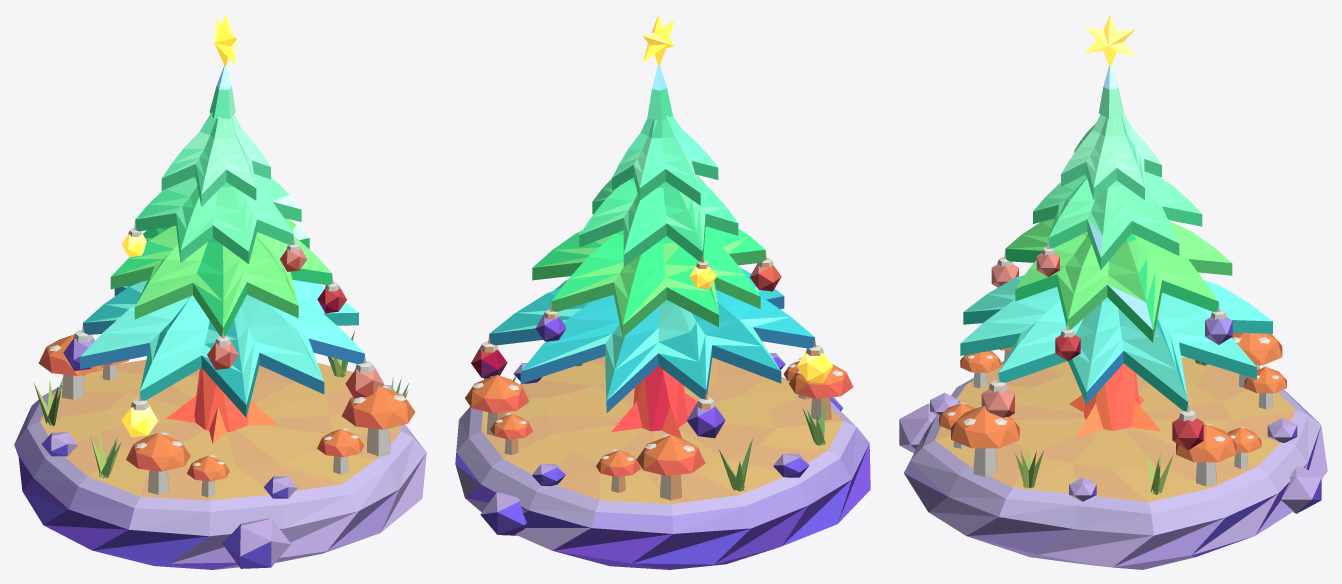
The model's file is pine.glb.
3 views of the same model, side by side, from view 1: azimuth 30°, elevation 25°; view 2: azimuth 150°, elevation 25°; view 3: azimuth 270°, elevation 25° (orthographic).
Parts seen in each view (by area): view 1: Rock, Tiers, Ornaments, Trunk, Glow, Frost; view 2: Rock, Tiers, Ornaments, Trunk, Glow; view 3: Rock, Tiers, Ornaments, Trunk, Glow, Frost.
Boxes of the visible parts, x1,y1,x2,y2 form: Rock: (14,331,426,569); Tiers: (80,86,364,417); Ornaments: (63,221,384,410); Trunk: (166,368,277,443); Glow: (121,14,236,437); Frost: (216,65,309,239); Rock: (455,353,870,569); Tiers: (489,88,814,412); Ornaments: (471,252,823,438); Trunk: (611,366,697,438); Glow: (642,14,832,383); Rock: (899,332,1327,569); Tiers: (960,86,1272,411); Ornaments: (981,240,1232,450); Trunk: (1069,363,1160,437); Glow: (1085,14,1135,65); Frost: (1088,65,1152,329).
Size of the model in its own units: 3.66 by 4.76 by 3.72.
